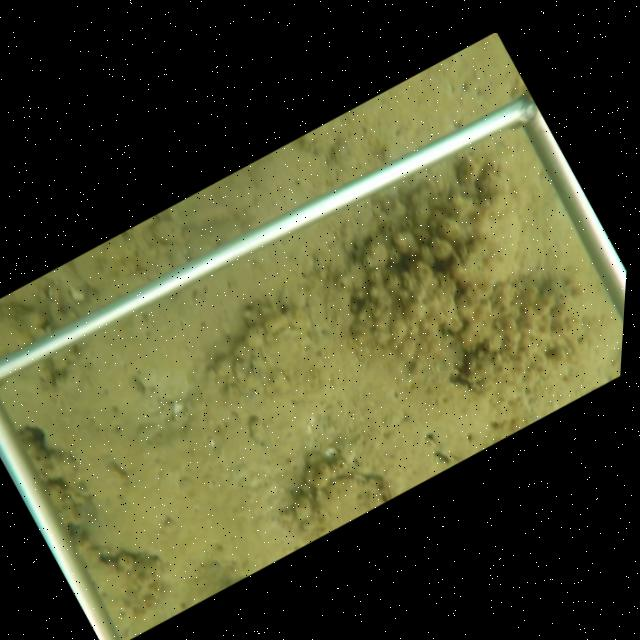Oyster-Indeterminate: (315, 472, 388, 535)
